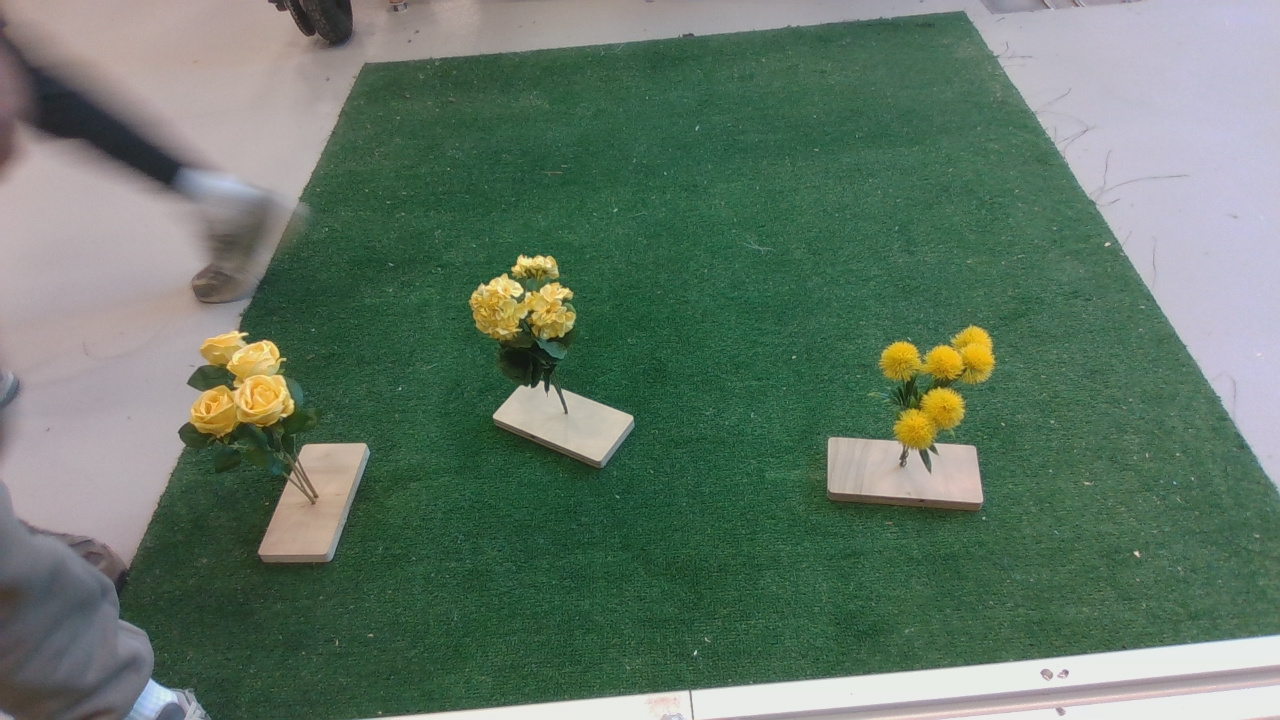dandelion: (868, 325, 1015, 475)
geranium: (466, 251, 588, 402)
rose: (175, 329, 325, 479)
